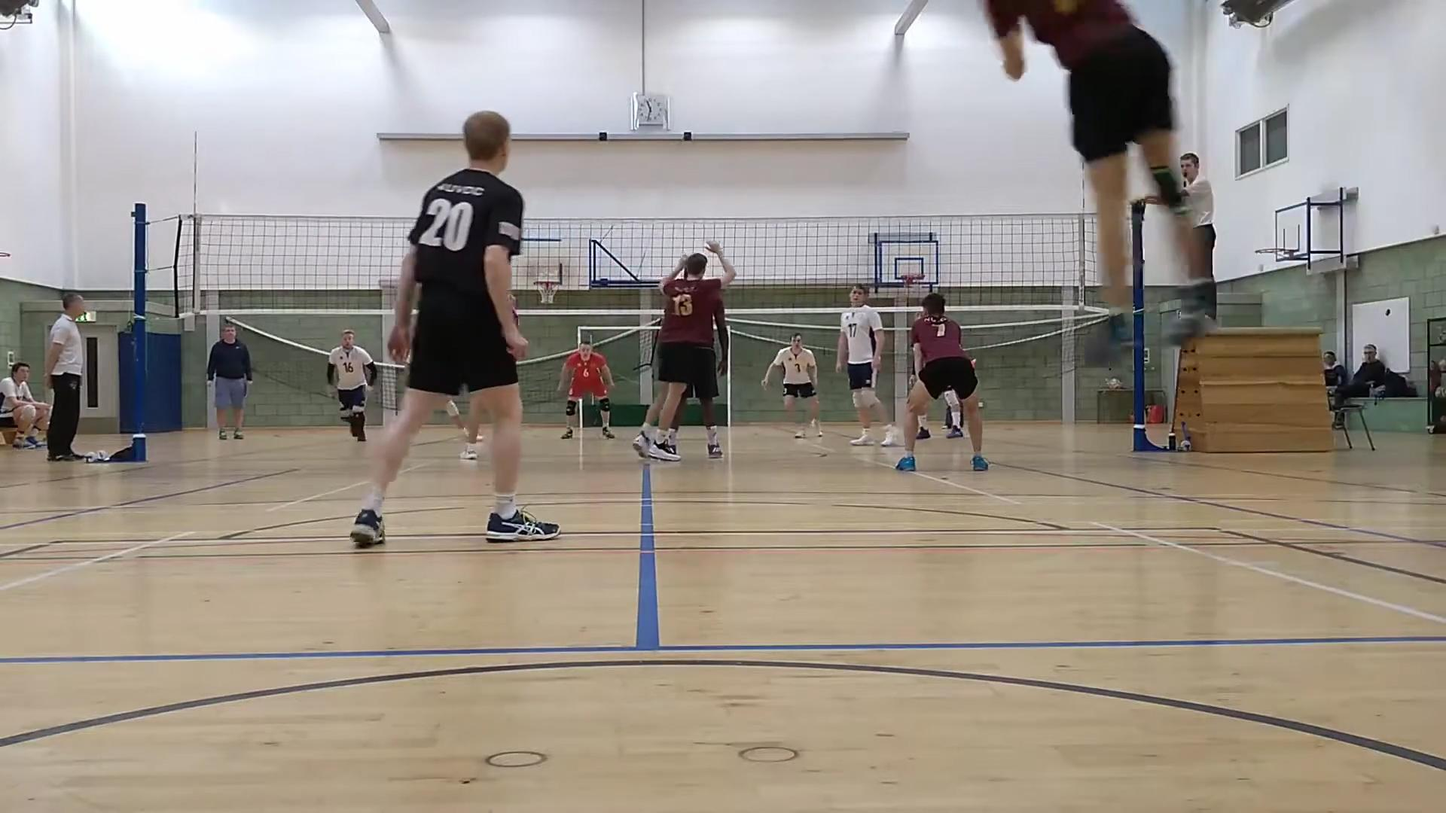Player: (351, 111, 559, 547), (633, 242, 736, 460), (896, 293, 988, 470), (836, 284, 899, 446), (762, 333, 822, 437), (327, 330, 377, 441), (559, 339, 614, 439), (659, 386, 715, 453), (943, 359, 977, 439), (444, 399, 480, 460), (445, 400, 481, 460)
Serve: (994, 2, 1213, 354)
